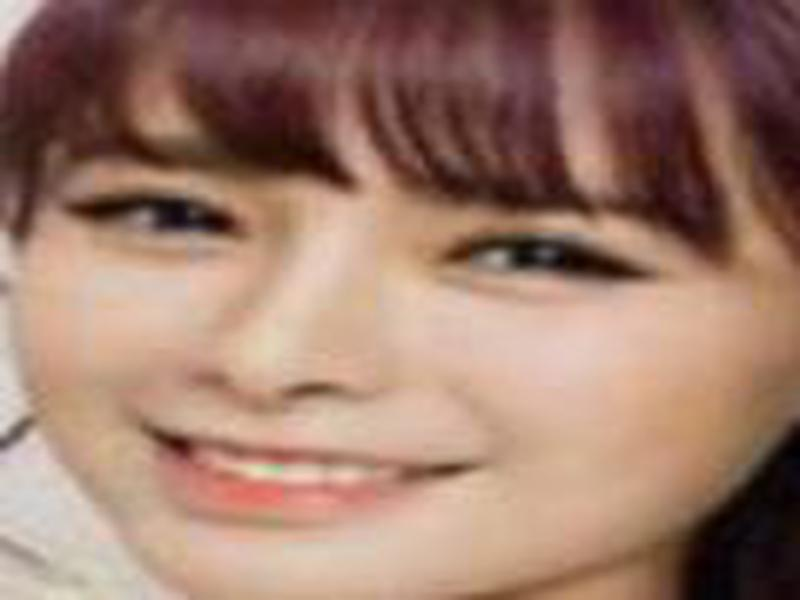without_mask: (12, 85, 800, 600)
